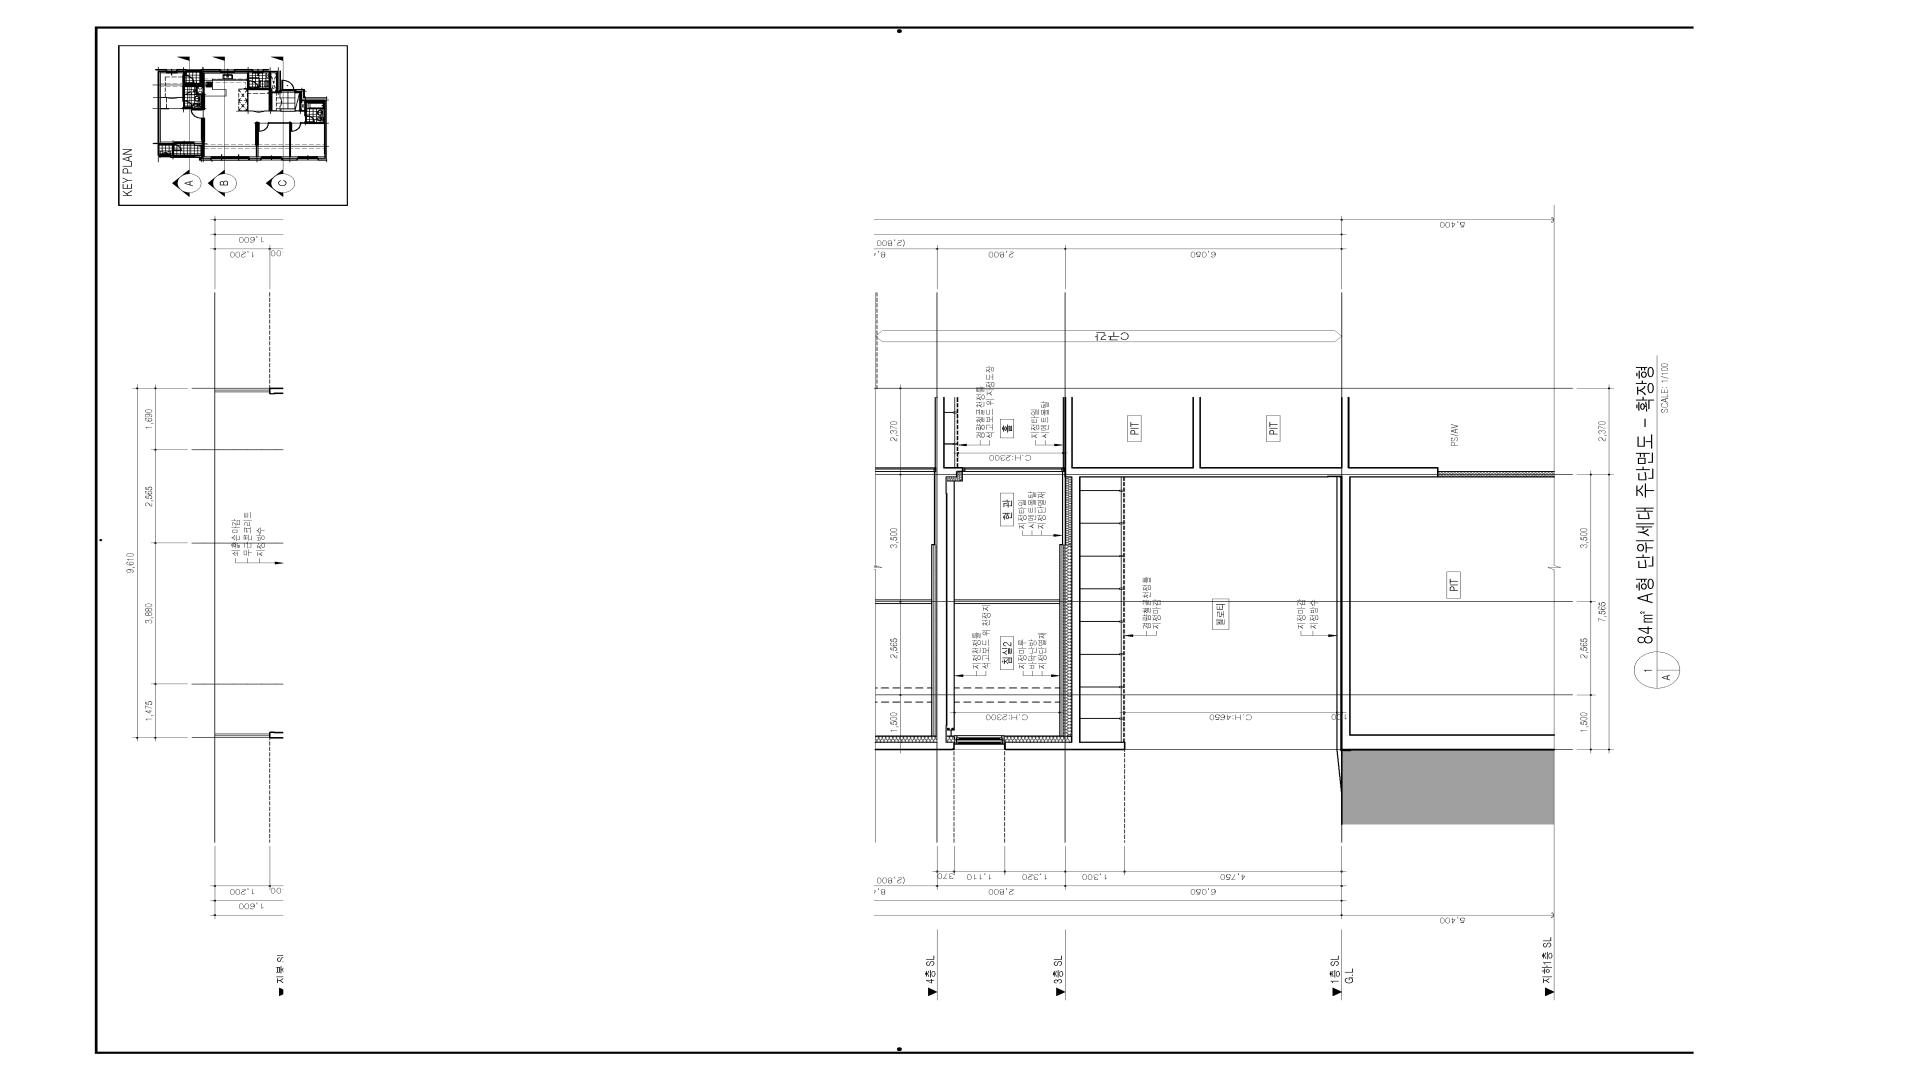wall: (1005, 397, 1555, 750), (876, 397, 963, 750), (1439, 471, 1555, 477), (963, 467, 1064, 472), (953, 600, 1060, 604), (876, 467, 936, 472), (876, 599, 931, 604)
window: (955, 736, 1005, 750)
